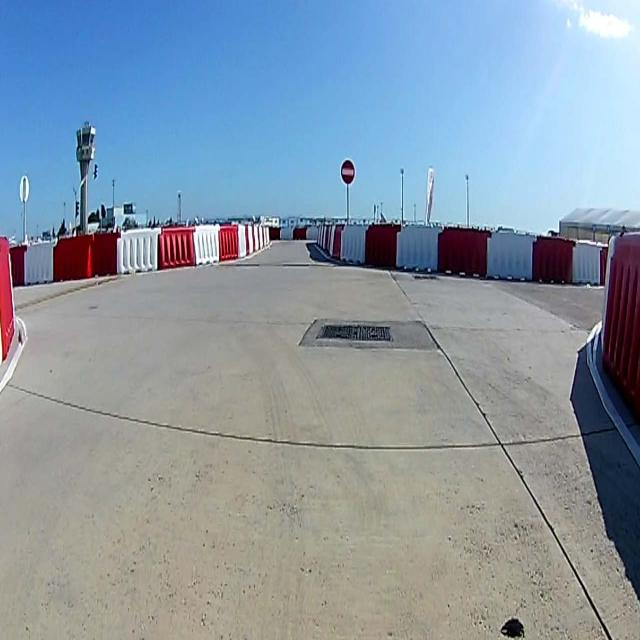girisyok: (340, 159, 355, 184)
